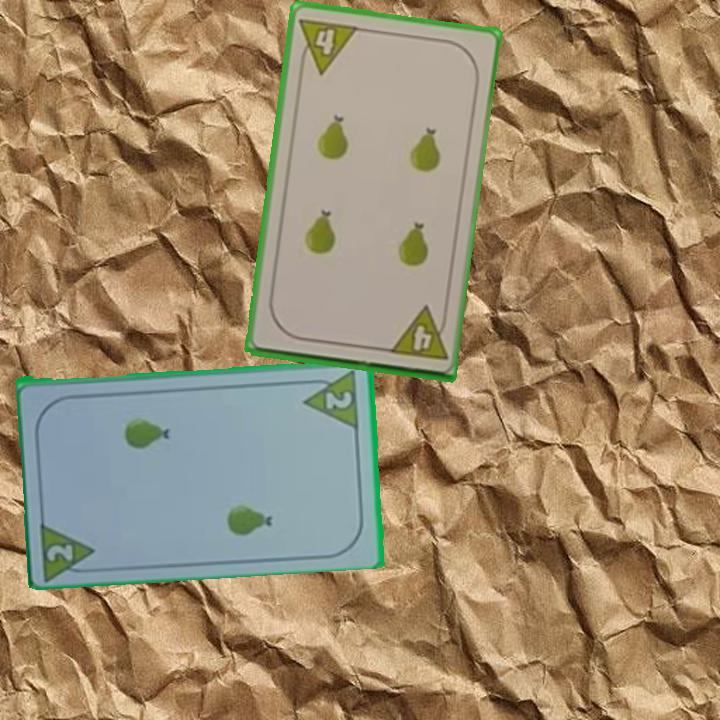2p: (43, 540, 77, 564), (322, 387, 355, 411)
4p: (295, 14, 361, 77), (385, 303, 451, 363)
